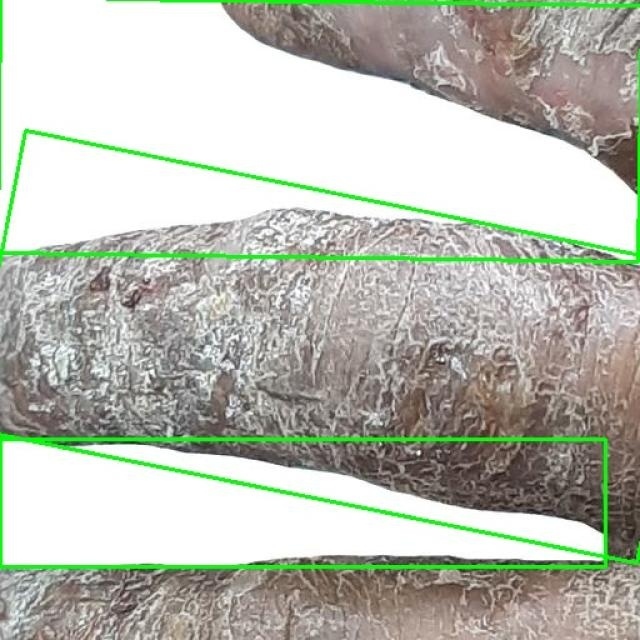Eczema: (0, 131, 640, 563), (0, 0, 640, 261), (0, 439, 605, 566)
